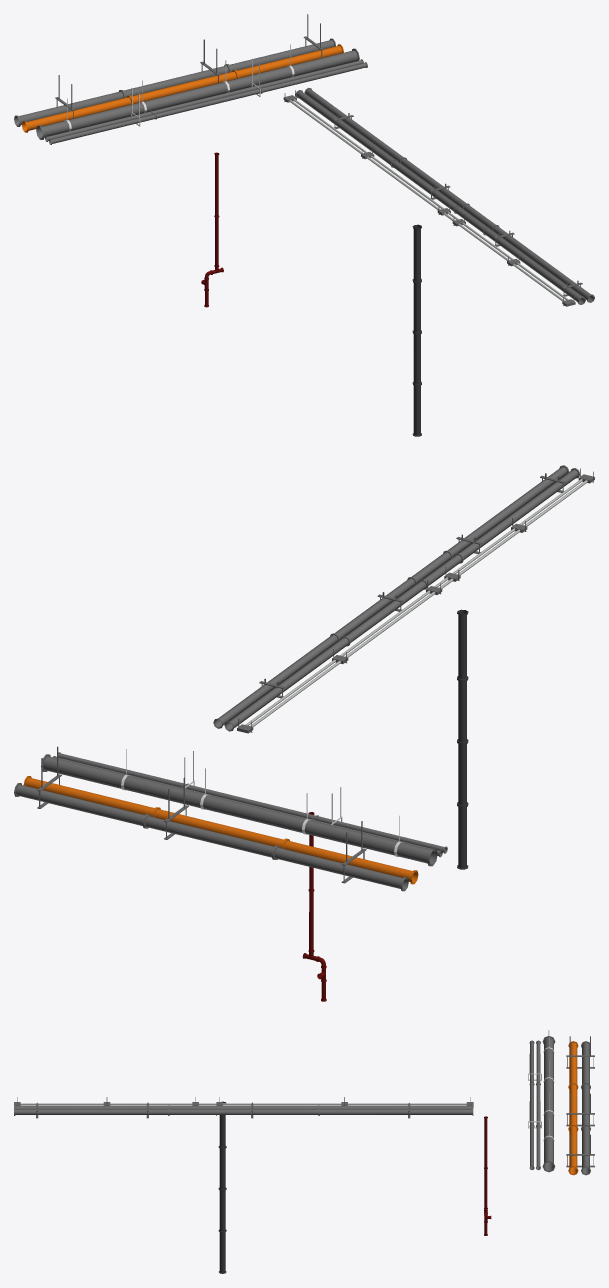
File: SM_H_Building_Tide_Corridor_04B_ATLAS.fbx
The picture shows the model from 3 angles, top to bottom: view 1: azimuth 30°, elevation 25°; view 2: azimuth 150°, elevation 25°; view 3: azimuth 270°, elevation 25°; orthographic projection. The views are drawn at different scales.
Visible parts, largest first — view 1: SM_H_Building_Tide_Corridor_04B_ATLAS; view 2: SM_H_Building_Tide_Corridor_04B_ATLAS; view 3: SM_H_Building_Tide_Corridor_04B_ATLAS.
Boxes of the visible parts, x1=… form: SM_H_Building_Tide_Corridor_04B_ATLAS: x1=14, y1=14, x2=594, y2=436; SM_H_Building_Tide_Corridor_04B_ATLAS: x1=14, y1=465, x2=594, y2=1001; SM_H_Building_Tide_Corridor_04B_ATLAS: x1=14, y1=1030, x2=594, y2=1273.
Bounding box in the file's own units: 1620 × 3174 × 1109.
